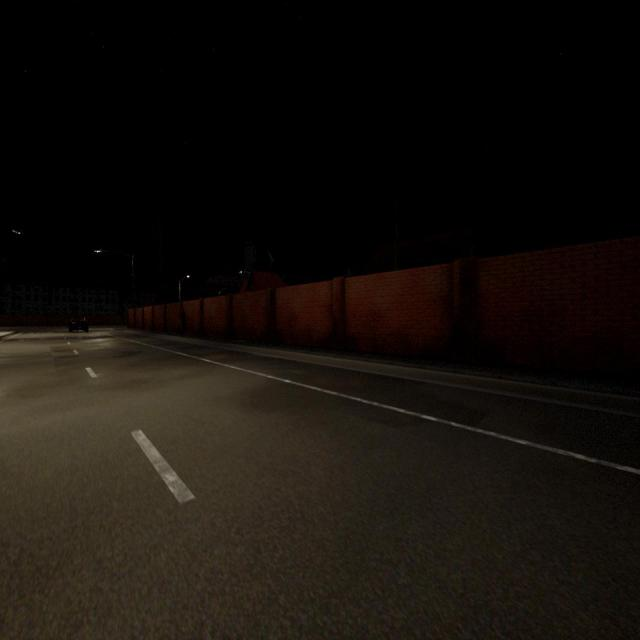Vehicle: (69, 316, 88, 332)
